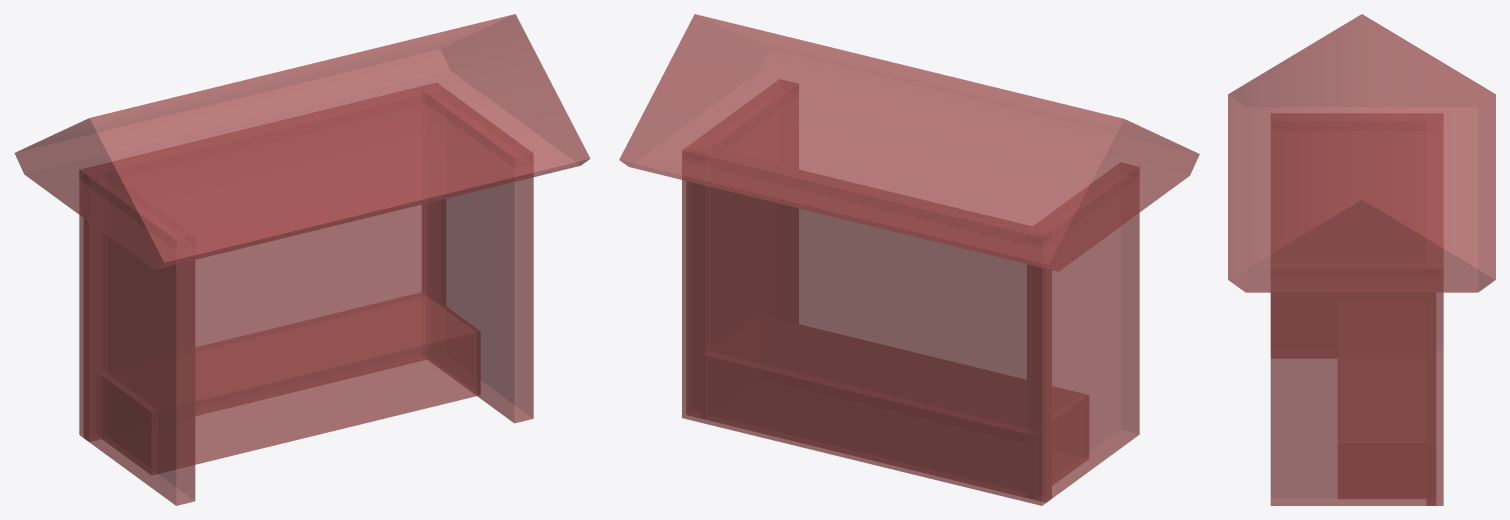
File: SM_Prop_Bench_01_Collision.fbx
3 renders of one model, left to right at view 1: azimuth 30°, elevation 25°; view 2: azimuth 150°, elevation 25°; view 3: azimuth 270°, elevation 25°, orthographic. The views are drawn at different scales.
Parts seen in each view (by area): view 1: SM_Prop_Bench_01_Collision; view 2: SM_Prop_Bench_01_Collision; view 3: SM_Prop_Bench_01_Collision.
Part boxes in pixels (x1,y1,x2,y2): SM_Prop_Bench_01_Collision: [14, 14, 590, 505]; SM_Prop_Bench_01_Collision: [619, 14, 1199, 505]; SM_Prop_Bench_01_Collision: [1228, 14, 1495, 505].
Bounding box in the file's own units: 336 × 270 × 205.
